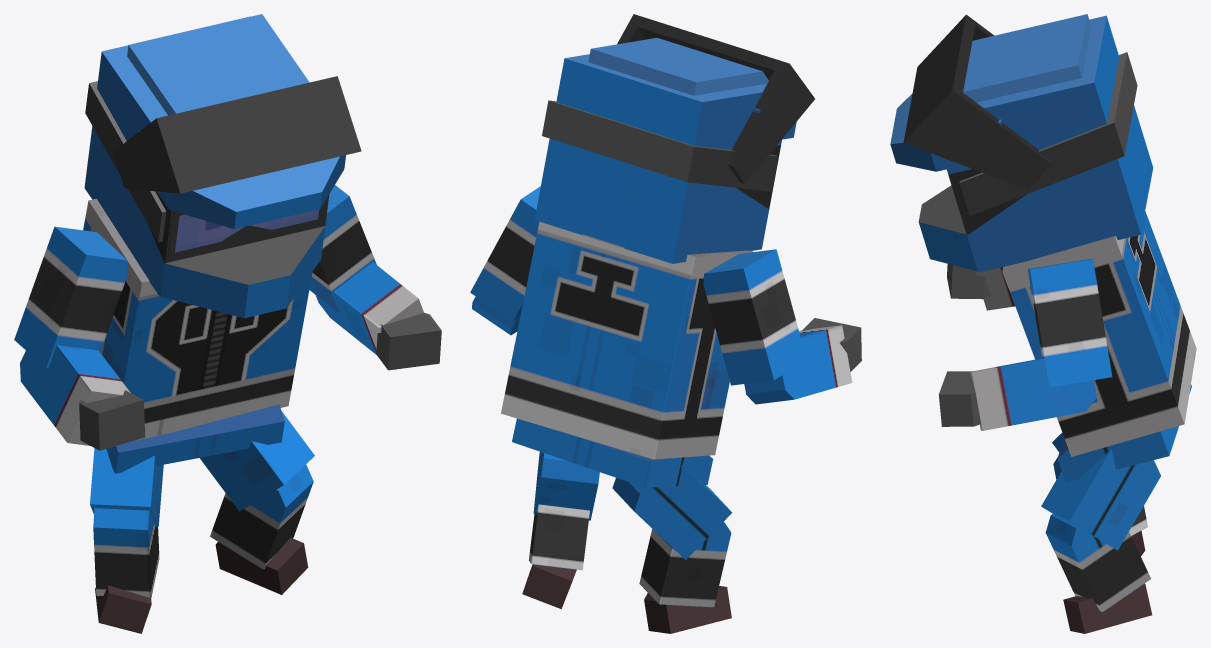
The model's file is QuadBike.fbx.
3 renders of one model, left to right at view 1: azimuth 30°, elevation 25°; view 2: azimuth 150°, elevation 25°; view 3: azimuth 270°, elevation 25°, orthographic. The views are drawn at different scales.
Parts seen in each view (by area): view 1: Motorcross_Helmet, Racing_Helmet_Open, Body, UpperArm_Right, LowerArm_Right, LowerBody, LowerLeg_Left, LowerLeg_Right, UpperLeg_Left, LowerArm_Left, UpperArm_Left, UpperLeg_Right (+5 smaller); view 2: Body, Motorcross_Helmet, Racing_Helmet_Open, UpperArm_Right, LowerBody, UpperLeg_Right, LowerLeg_Right, UpperArm_Left, LowerArm_Right, LowerLeg_Left, UpperLeg_Left, Foot_Right (+4 smaller); view 3: Motorcross_Helmet, Body, Racing_Helmet, Racing_Helmet_Open, UpperArm_Left, UpperLeg_Left, LowerArm_Left, LowerLeg_Left, LowerBody, Foot_Left, Hand_Left, Hand_Right (+1 smaller).
Part boxes in pixels (x1,y1,x2,y2): Motorcross_Helmet: (85,14,345,318); Racing_Helmet_Open: (84,53,361,296); Body: (83,198,312,441); UpperArm_Right: (14,226,126,368); LowerArm_Right: (20,345,130,448); LowerBody: (106,404,284,473); LowerLeg_Left: (210,464,313,569); LowerLeg_Right: (93,508,159,598); UpperLeg_Left: (200,411,314,511); LowerArm_Left: (315,262,423,369); UpperArm_Left: (309,185,376,313); UpperLeg_Right: (90,448,163,526); Body: (501,221,753,459); Motorcross_Helmet: (535,38,796,262); Racing_Helmet_Open: (610,14,814,263); UpperArm_Right: (703,249,806,385); LowerBody: (512,418,713,487); UpperLeg_Right: (612,465,732,559); LowerLeg_Right: (639,522,731,607); UpperArm_Left: (470,186,540,321); LowerArm_Right: (744,325,852,404); LowerLeg_Left: (529,504,589,570); UpperLeg_Left: (533,452,599,520); Foot_Right: (644,586,731,633); Motorcross_Helmet: (890,14,1152,271); Body: (1002,211,1196,456); Racing_Helmet: (946,84,1153,272); Racing_Helmet_Open: (903,14,1151,200); UpperArm_Left: (1027,258,1112,387); UpperLeg_Left: (1041,449,1160,550); LowerArm_Left: (970,358,1096,430); LowerLeg_Left: (1045,514,1150,612); LowerBody: (1057,384,1191,482); Foot_Left: (1063,583,1152,633); Hand_Left: (938,371,980,426); Hand_Right: (947,264,991,299).
Bounding box in the file's own units: 188 × 287 × 144.
Materials: 1 (1 with a texture image).
